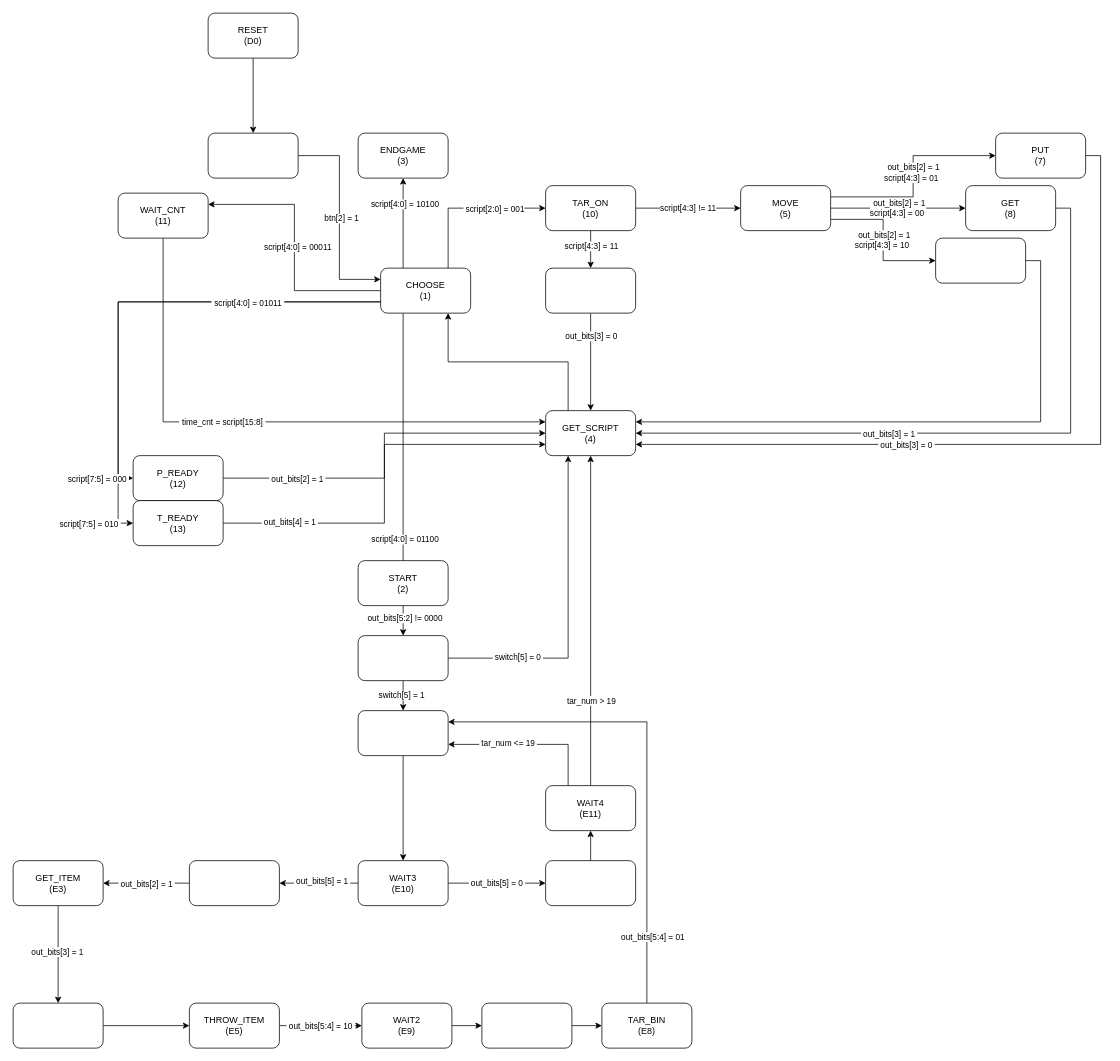
Image size: 1120x1061. Some labels were removed from this diagram. Here are the shapes that lost their labels. From the top down, the centre of each, then its label:
(252,155): BG (0)
(980,260): INTERACT (9)
(590,290): THROW (6)
(402,658): WAIT1 (14)
(402,733): TAR2NUM (E1)
(234,883): MOVE2NUM (E2)
(590,883): NUM_PLUS (E6)
(57,1025): TAR2BIN (E4)
(526,1025): TAR_NUM (E7)
